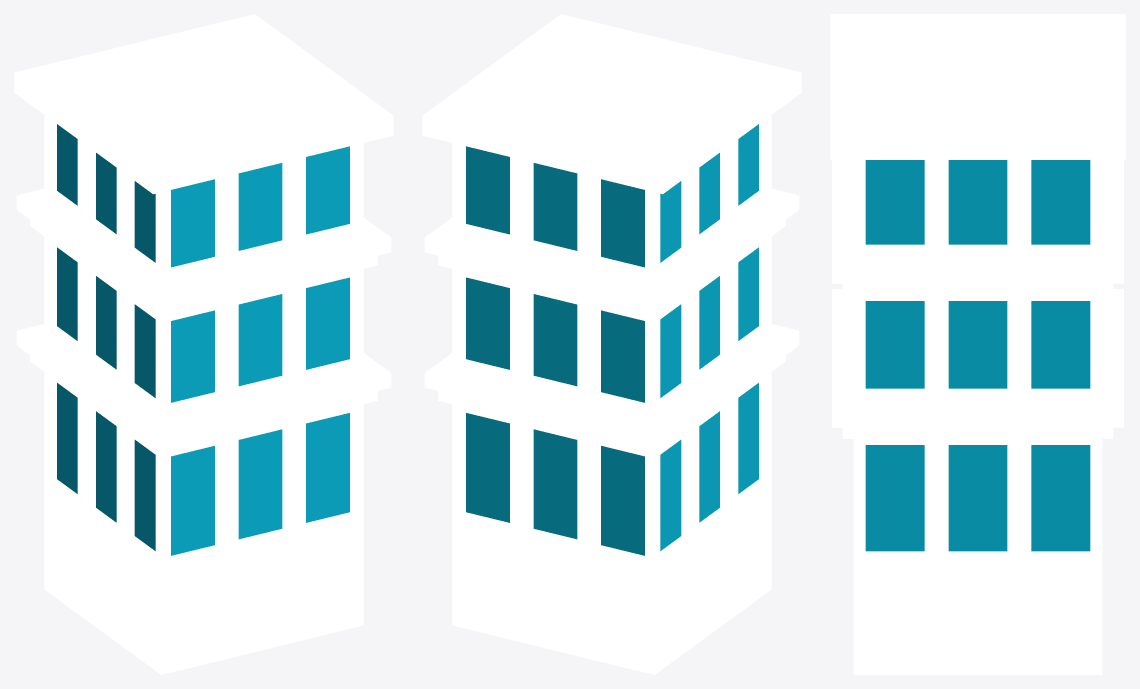
The model's file is building.gltf.
3 views of the same model, side by side, from view 1: azimuth 30°, elevation 25°; view 2: azimuth 150°, elevation 25°; view 3: azimuth 270°, elevation 25° (orthographic). The views are drawn at different scales.
Visible parts, largest first — view 1: Object; view 2: Object; view 3: Object.
Boxes of the visible parts, <box> form: Object: <box>14,14,393,674</box>; Object: <box>422,14,801,674</box>; Object: <box>830,14,1125,674</box>.
Size of the model in its own units: 2.38 by 4.84 by 2.38.
